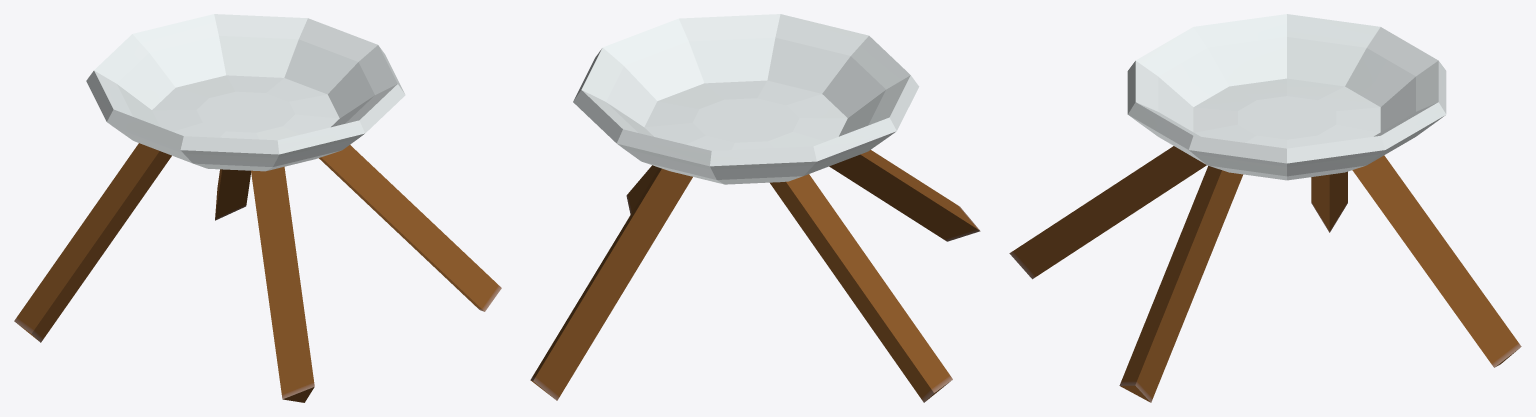
File: CookingPan.fbx
3 renders of one model, left to right at view 1: azimuth 30°, elevation 25°; view 2: azimuth 150°, elevation 25°; view 3: azimuth 270°, elevation 25°, orthographic. The views are drawn at different scales.
Visible parts, largest first — view 1: CookingPan; view 2: CookingPan; view 3: CookingPan.
Boxes of the visible parts, left/top/right/bottom form: CookingPan: left=14, top=14, right=501, bottom=402; CookingPan: left=530, top=14, right=980, bottom=402; CookingPan: left=1009, top=14, right=1521, bottom=402.
Size of the model in its own units: 83.03 by 48.58 by 91.55.
